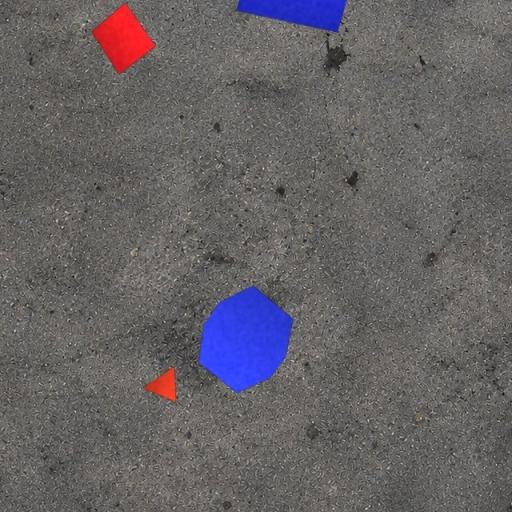RED_SQUARE: (91, 2, 157, 76)
